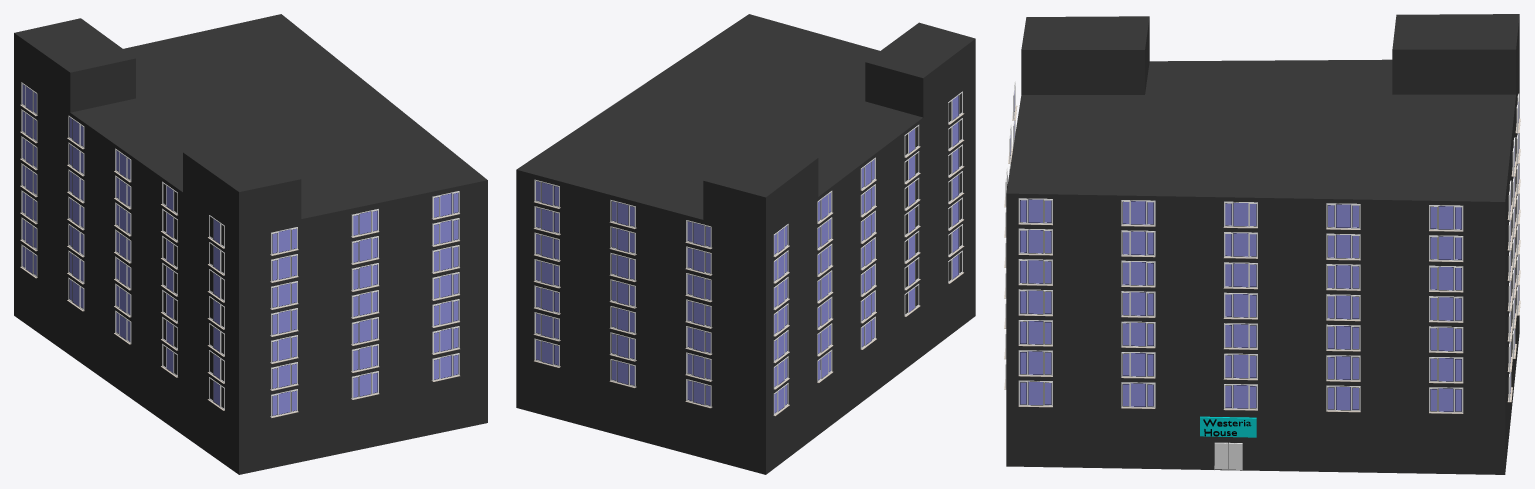
The model's file is WesteriaHouse.fbx.
The picture shows the model from 3 angles, left to right: view 1: azimuth 30°, elevation 25°; view 2: azimuth 150°, elevation 25°; view 3: azimuth 270°, elevation 25°; orthographic projection. The views are drawn at different scales.
Parts seen in each view (by area): view 1: Vert.024, Window.002, Window; view 2: Vert.024, Window.001, Window; view 3: Vert.024, Window.003, Window.001, Cube, Window.002.
Boxes of the visible parts, left/top/right/bottom form: Vert.024: left=14, top=14, right=487, bottom=474; Window.002: left=270, top=191, right=459, bottom=417; Window: left=20, top=82, right=224, bottom=410; Vert.024: left=516, top=14, right=975, bottom=474; Window.001: left=533, top=179, right=712, bottom=408; Window: left=773, top=91, right=964, bottom=416; Vert.024: left=1006, top=14, right=1519, bottom=474; Window.003: left=1018, top=198, right=1463, bottom=413; Window.001: left=1507, top=93, right=1520, bottom=402; Cube: left=1200, top=416, right=1256, bottom=437; Window.002: left=1004, top=81, right=1017, bottom=389.
Size of the model in its own units: 24.96 by 25.63 by 37.74.
